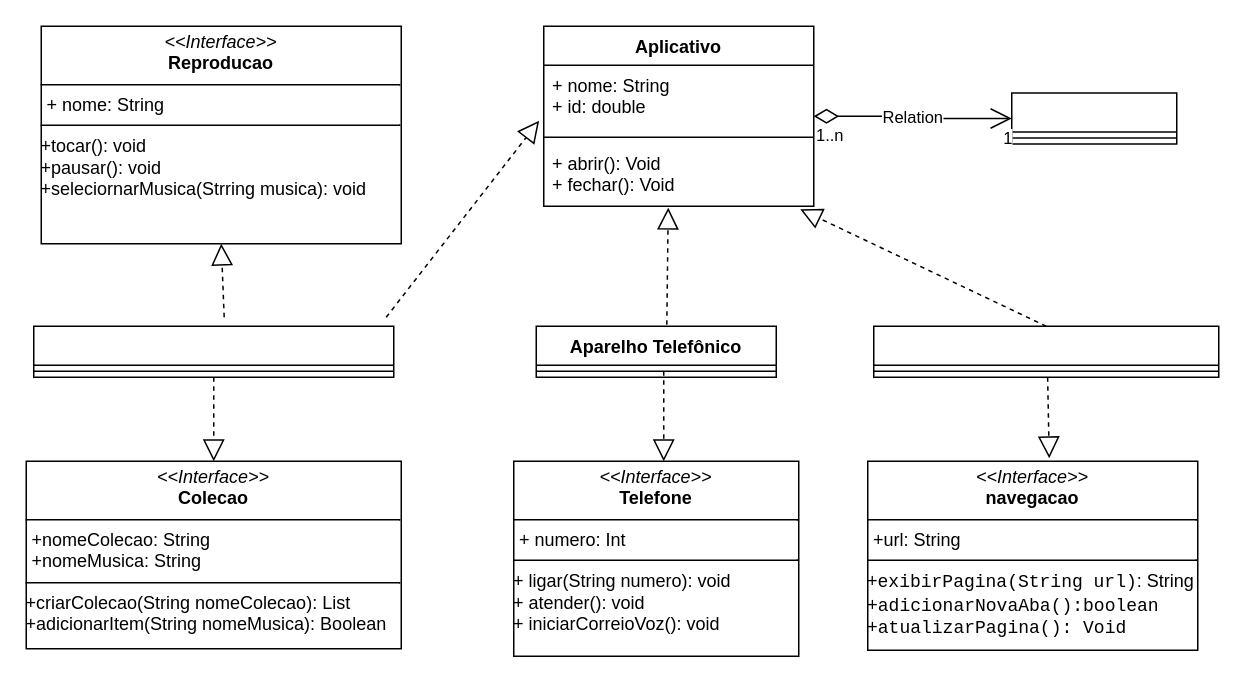
Some shapes in this 1245 by 683 pixel diagram are drawn without their labels. Here are the shapes that lost their labels. From the top down, the centre of each, then its label:
point 1093,118: iphone
point 213,351: Reprodutor Musical
point 1045,351: Navegador na Internet
